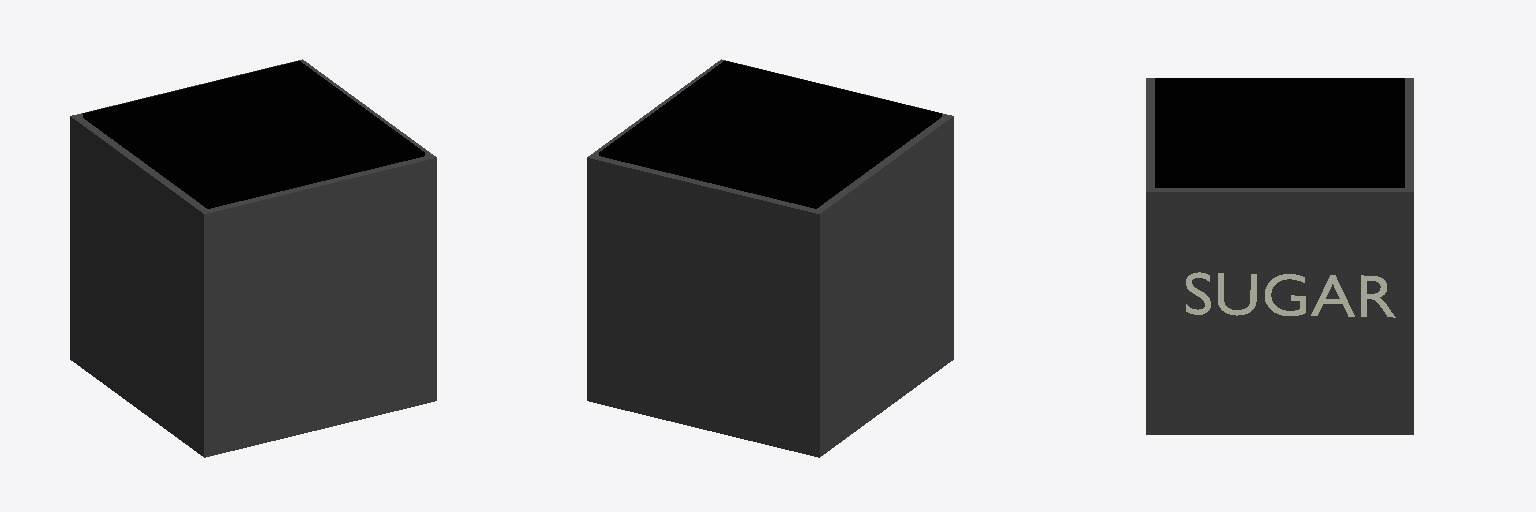
The model's file is Sugar.obj.
The picture shows the model from 3 angles: view 1: azimuth 30°, elevation 25°; view 2: azimuth 150°, elevation 25°; view 3: azimuth 270°, elevation 25°; orthographic projection.
Parts seen in each view (by area): view 1: Cube, Cube.001; view 2: Cube, Cube.001; view 3: Cube, Cube.001, Text.
Part boxes in pixels (x1,y1,x2,y2): Cube: (70,59,436,457); Cube.001: (83,61,424,208); Cube: (587,59,953,457); Cube.001: (599,61,941,208); Cube: (1146,78,1413,434); Cube.001: (1155,78,1404,187); Text: (1186,272,1395,317).
Bounding box in the file's own units: 2.04 × 2.03 × 2.